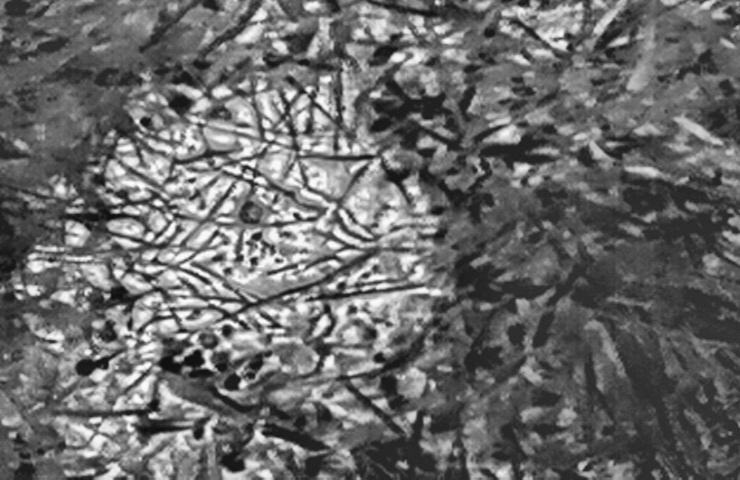landmines: (62, 67, 462, 416)
